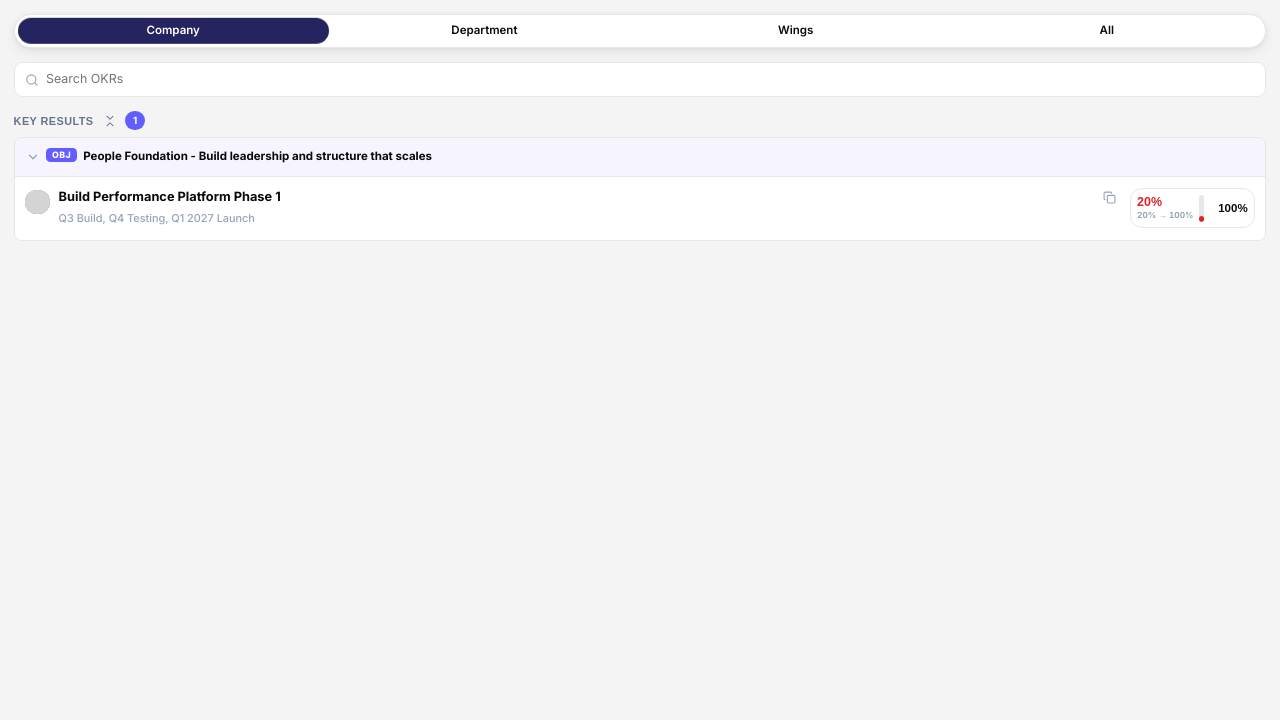
Test: GoalOkrReferenceList › shows milestones in the detail info tab
Click the button "Wings" at (796, 31), box 640,18 -> 951,44
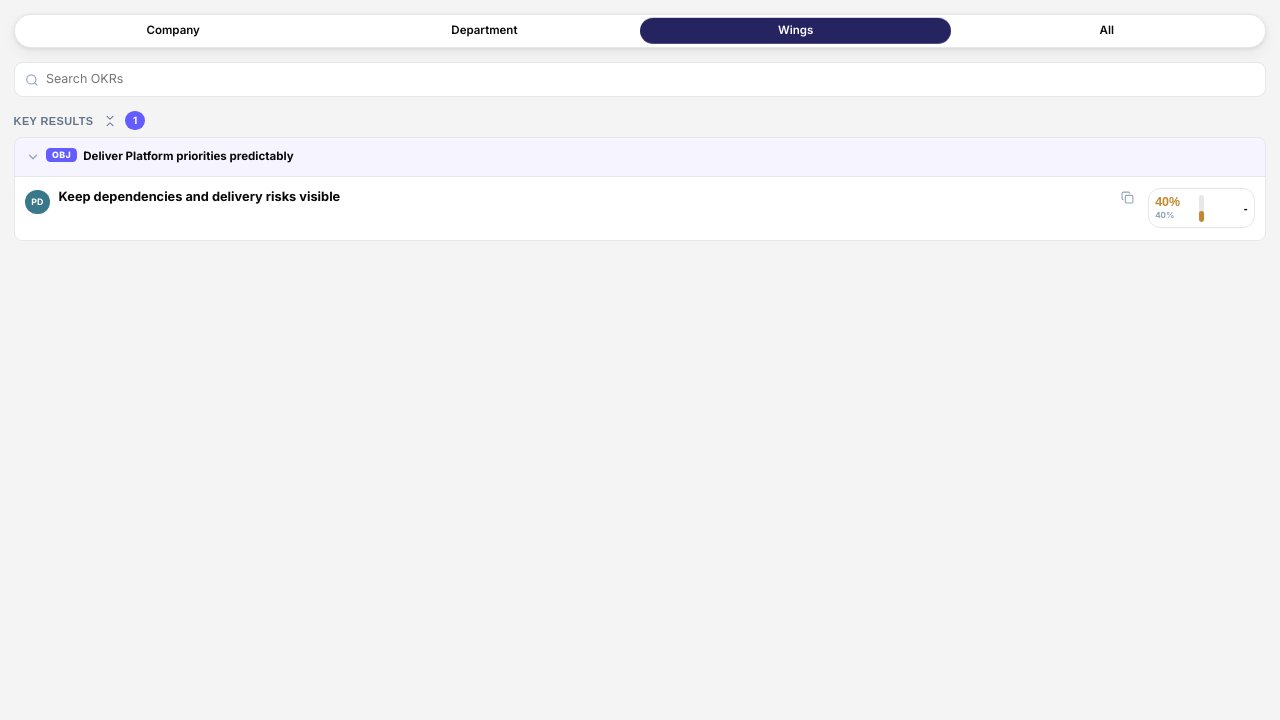
Click the text "Keep dependencies and delivery risks visible" at (199, 196), box 59,189 -> 340,204
(page scrolled)
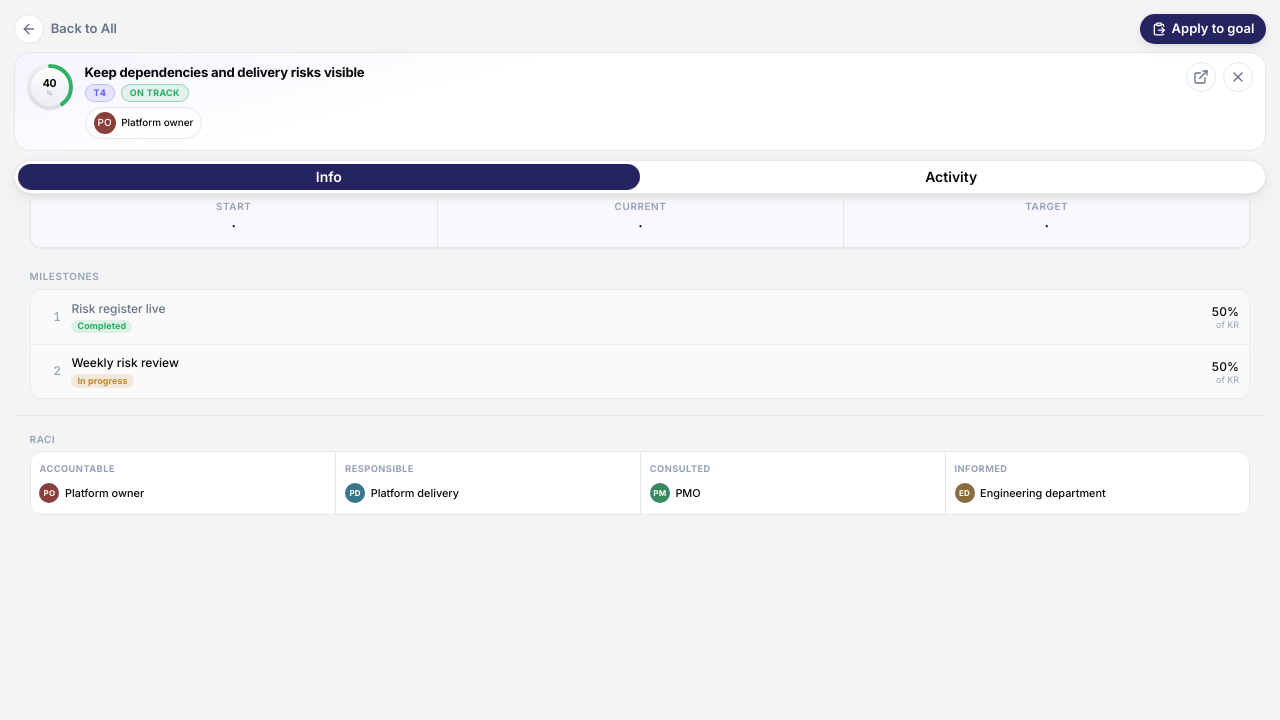
Now the text "Risk register live" is shown, box 71,301 -> 166,317
Now the text "Weekly risk review" is shown, box 71,355 -> 179,371
Now the text "50%" in the row of "Risk register live" is shown, box 1212,304 -> 1239,319
